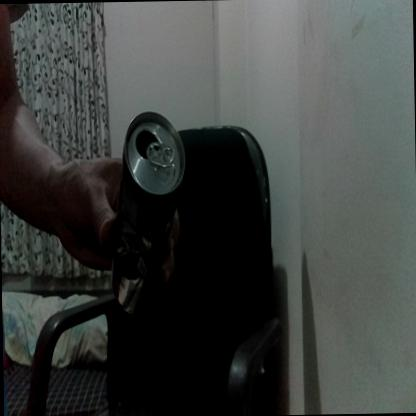alumunium_can: (107, 112, 190, 315)
